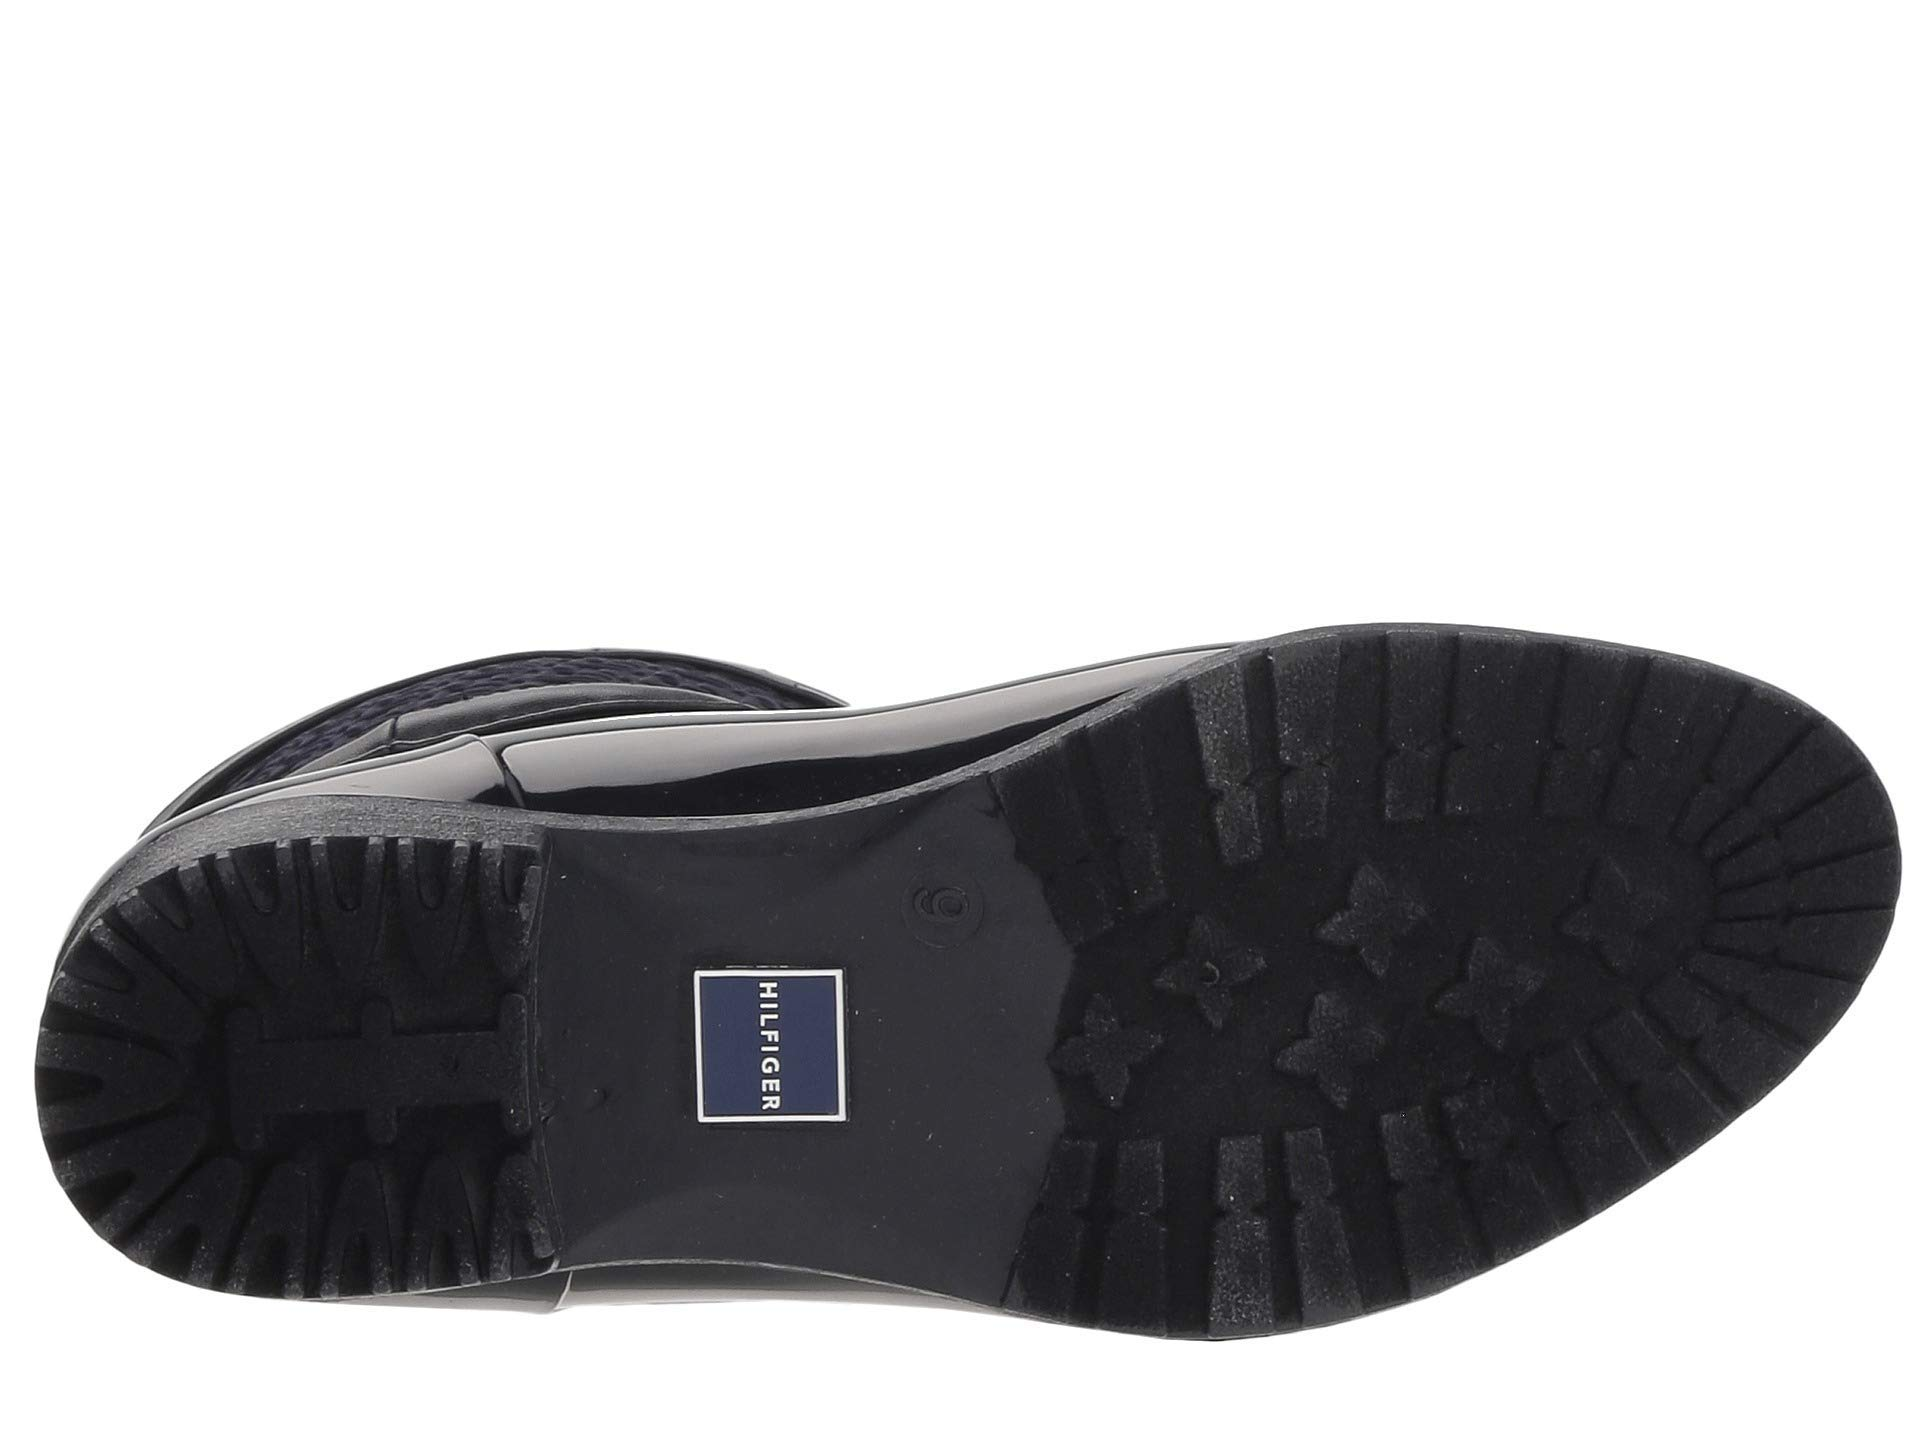circle: (881, 841, 1055, 976)
quad: (635, 939, 886, 1206)
star: (1126, 849, 1436, 1156)
text: (635, 939, 886, 1206), (881, 841, 1055, 976)
